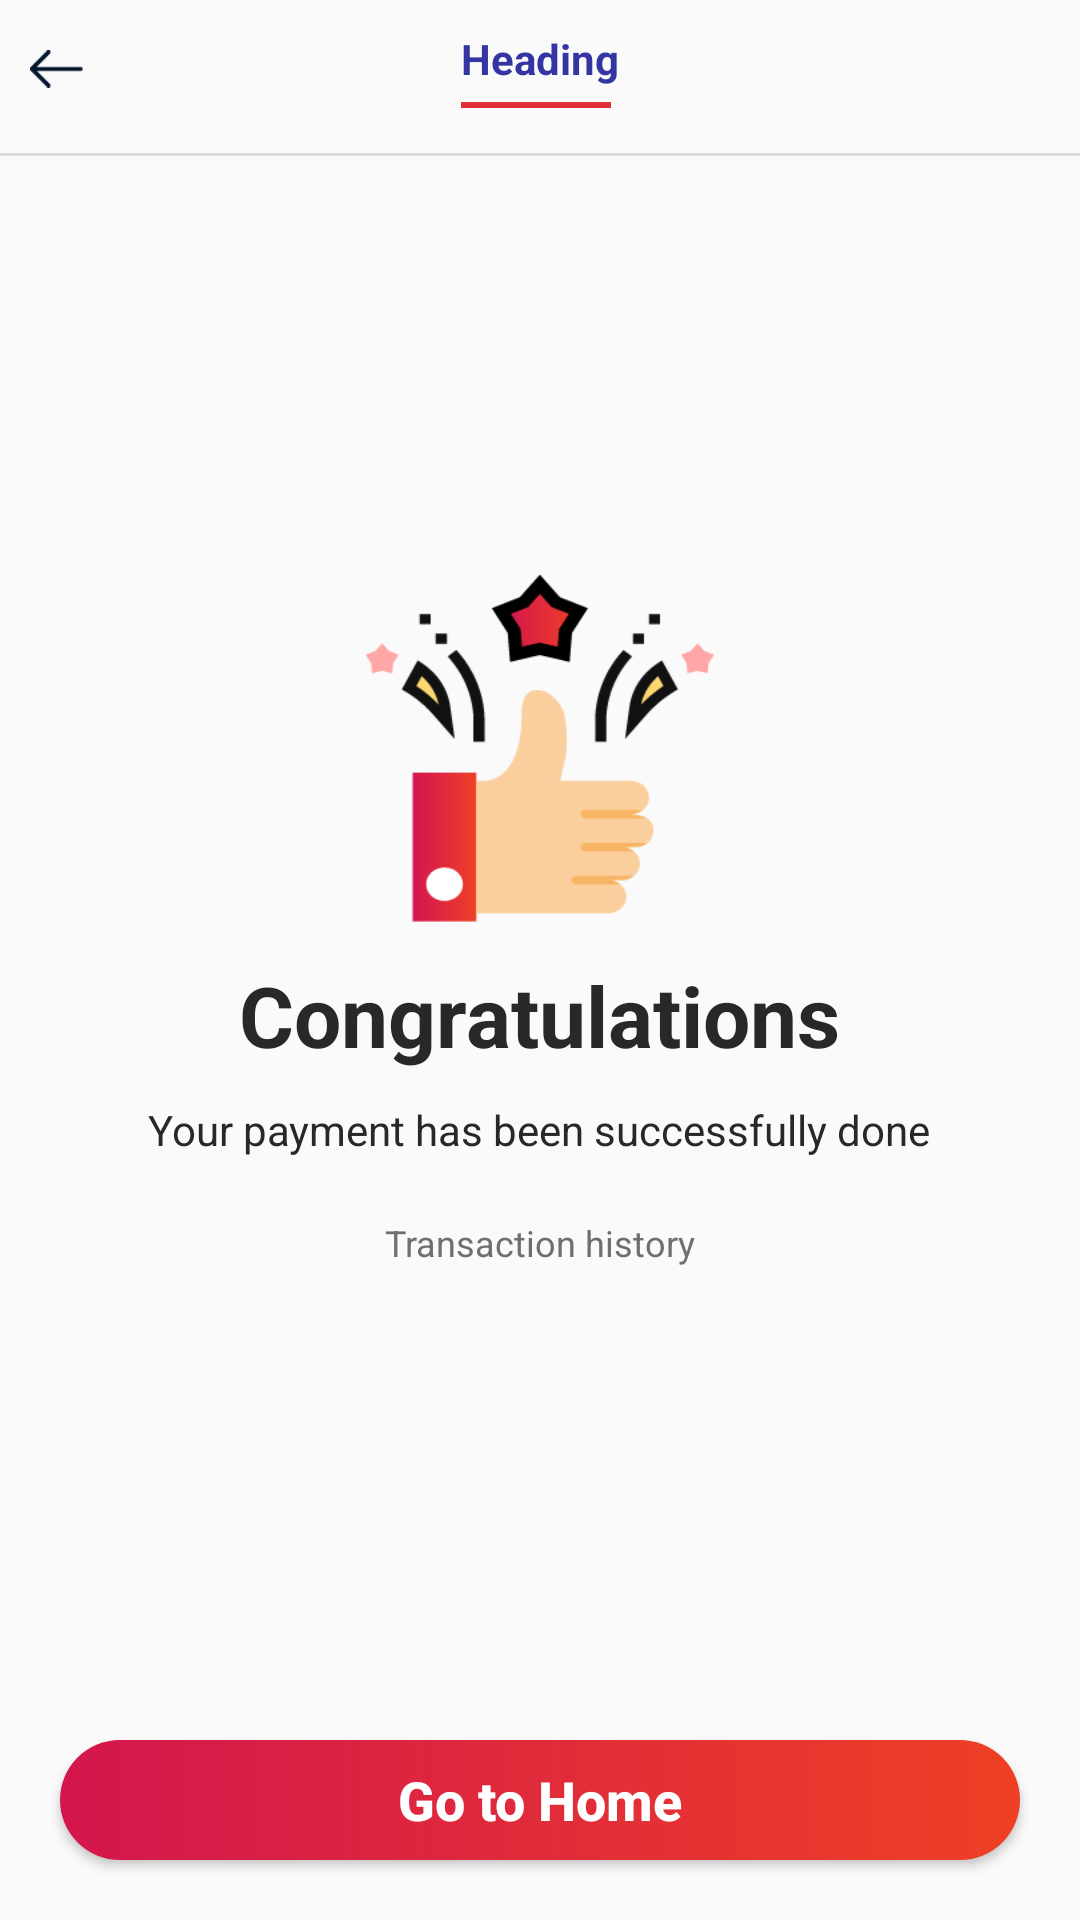

Screen size 1080px×1920px. Icon name, then its box in pixels as (left=x1, top=y1, right=x2, bottom=y2):
back: (left=30, top=50, right=83, bottom=88)
